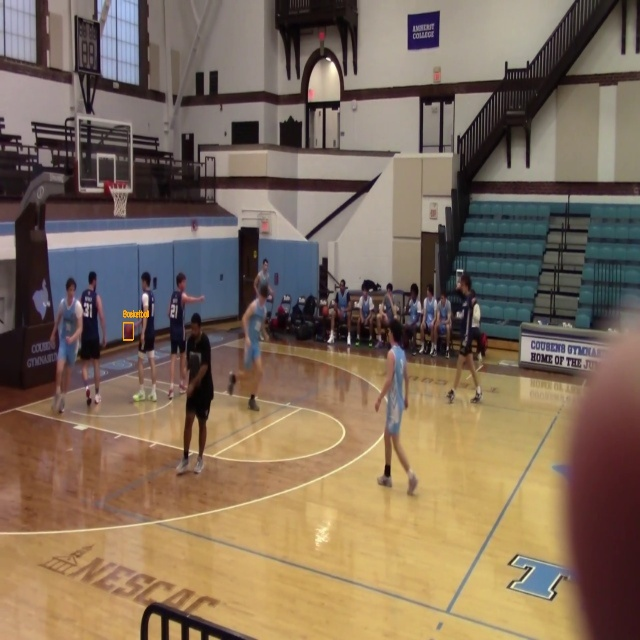Basketball: (123, 323, 133, 340)
